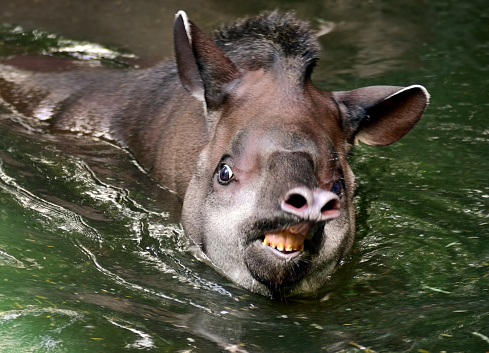Anta: (52, 6, 428, 304)
